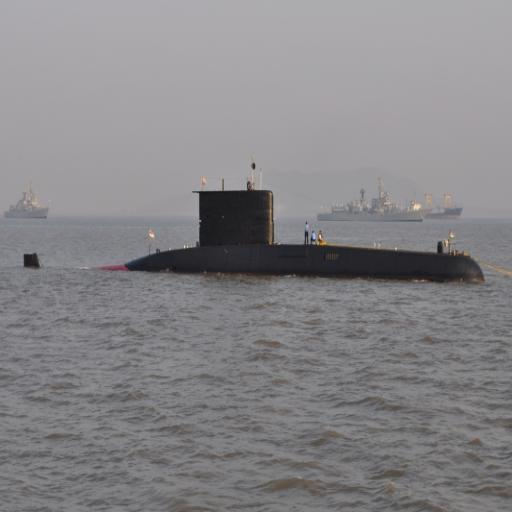submarine: (23, 189, 487, 284)
